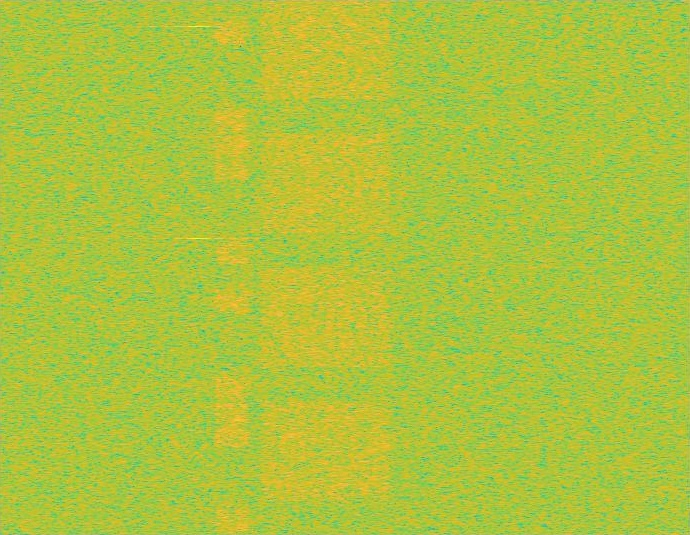5G: (257, 0, 395, 534)
LTE: (214, 0, 249, 534)
Radar: (192, 0, 205, 534)
